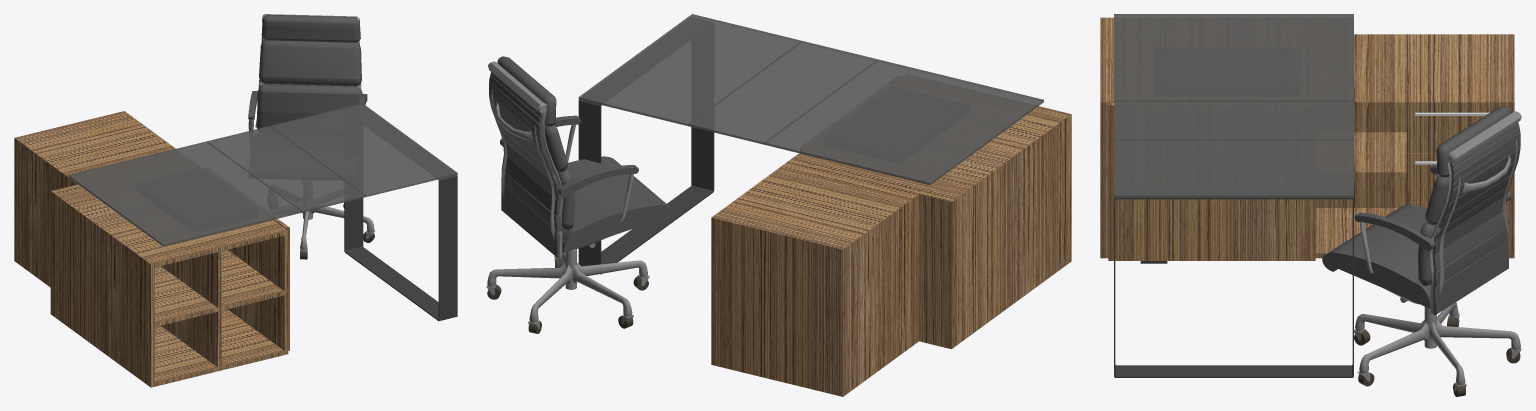
Rendered from desk-160-drawers-right.glb.
3 renders of one model, left to right at view 1: azimuth 30°, elevation 25°; view 2: azimuth 150°, elevation 25°; view 3: azimuth 270°, elevation 25°, orthographic. The views are drawn at different scales.
Visible parts, largest first — view 1: Geom3D (×3), Geom3D_ (×2); view 2: Geom3D (×4), Geom3D_ (×2); view 3: Geom3D (×5), Geom3D_ (×2).
Boxes of the visible parts, bbox=[...] form: Geom3D (×3): bbox=[14, 103, 457, 387]; Geom3D_ (×2): bbox=[248, 14, 375, 254]; Geom3D (×4): bbox=[487, 14, 1071, 396]; Geom3D_ (×2): bbox=[486, 56, 673, 329]; Geom3D (×5): bbox=[1100, 14, 1520, 396]; Geom3D_ (×2): bbox=[1322, 106, 1521, 391].
Size of the model in its own units: 1.9 by 1.03 by 1.57.
8 materials, 1 textured.
